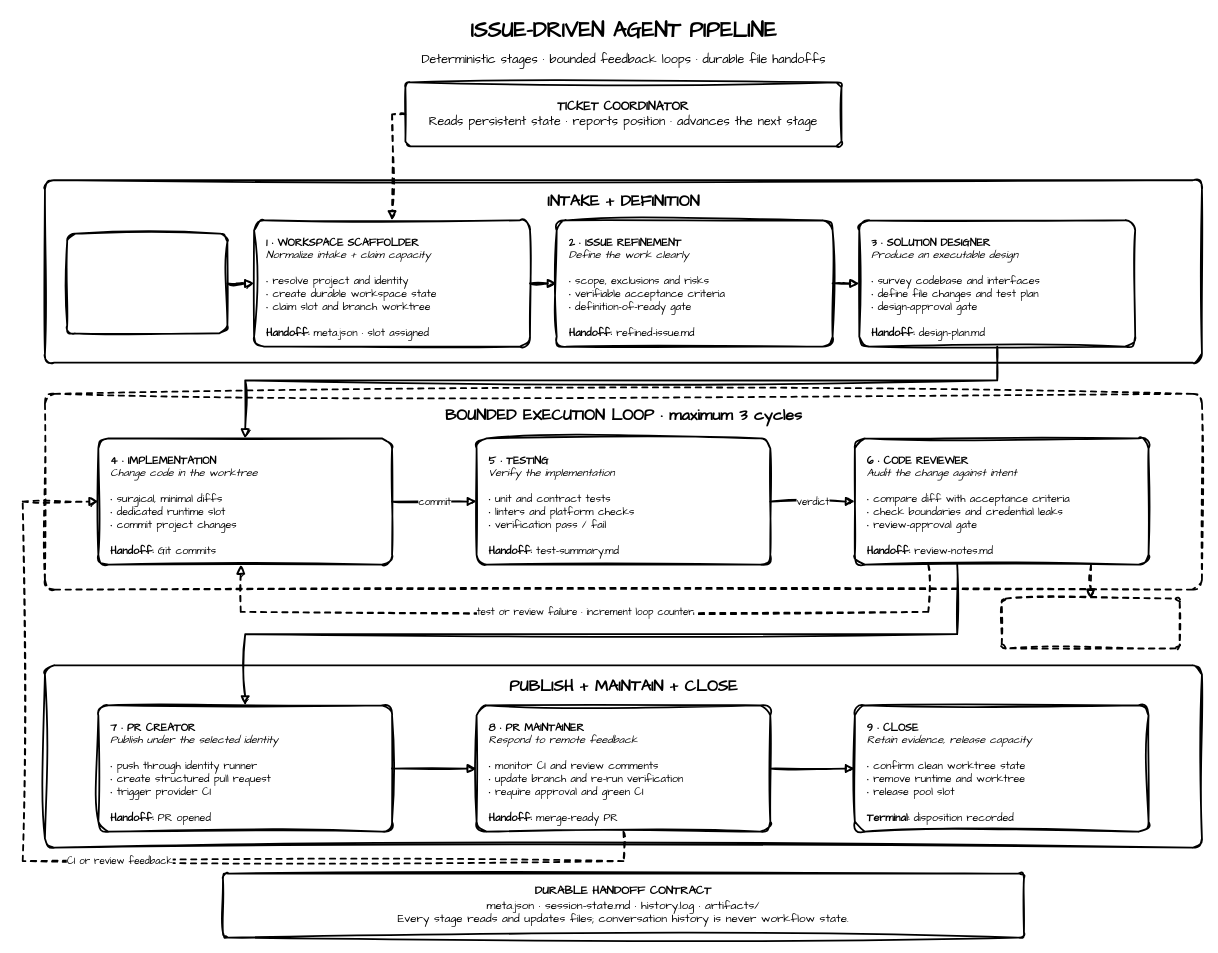
The diagram is 1218 pixels wide and 953 high, and some of its shapes have lost their labels. The centre of each missing label's shape, as x and y in pixels:
"HUMAN REVIEW loop limit reached" goes at pixel 1090 623.
"ISSUE PROVIDER GitHub / GitLab ticket or issue" goes at pixel 147 283.
